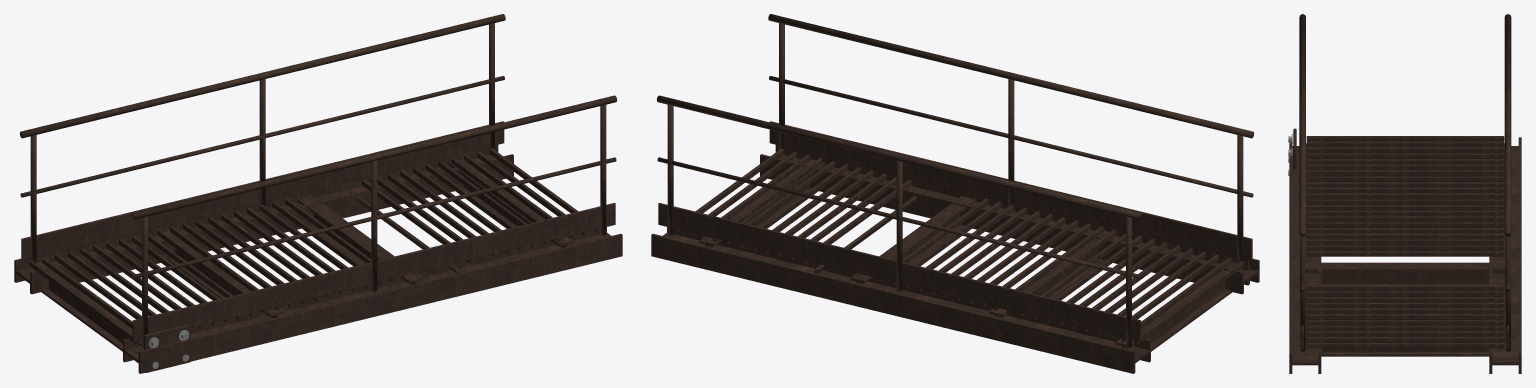
File: f3_grating_catwalk.glb
3 renders of one model, left to right at view 1: azimuth 30°, elevation 25°; view 2: azimuth 150°, elevation 25°; view 3: azimuth 270°, elevation 25°, orthographic. The views are drawn at different scales.
Visible parts, largest first — view 1: f3_oxidized_iron_surface; view 2: f3_oxidized_iron_surface; view 3: f3_oxidized_iron_surface.
Boxes of the visible parts, x1,y1,x2,y2 form: f3_oxidized_iron_surface: [14, 14, 622, 373]; f3_oxidized_iron_surface: [651, 14, 1259, 373]; f3_oxidized_iron_surface: [1289, 14, 1521, 373].
Size of the model in its own units: 4 by 1.26 by 1.82.
2 materials, 2 textured.
